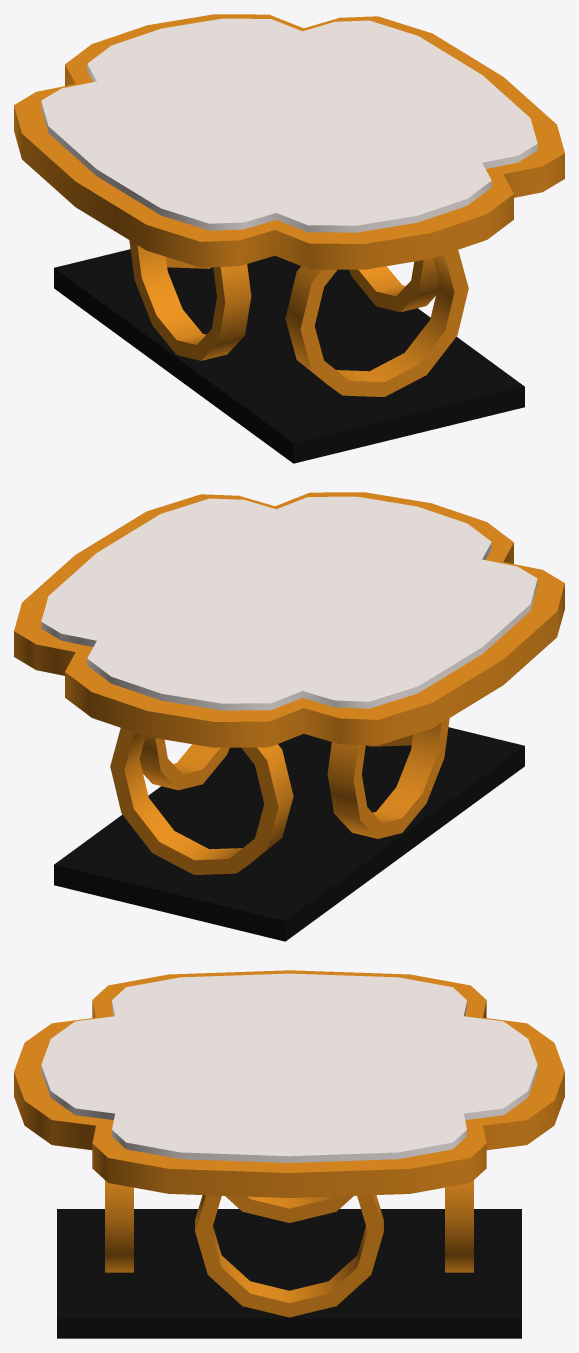
The model's file is ban 1_01.FBX.
3 renders of one model, top to bottom at view 1: azimuth 30°, elevation 25°; view 2: azimuth 150°, elevation 25°; view 3: azimuth 270°, elevation 25°, orthographic. The views are drawn at different scales.
Parts seen in each view (by area): view 1: Object1209; view 2: Object1209; view 3: Object1209.
Boxes of the visible parts, bbox=[...] form: Object1209: bbox=[14, 14, 564, 463]; Object1209: bbox=[14, 492, 564, 941]; Object1209: bbox=[14, 970, 564, 1338].
Size of the model in its own units: 2.81 by 1.41 by 3.22.
